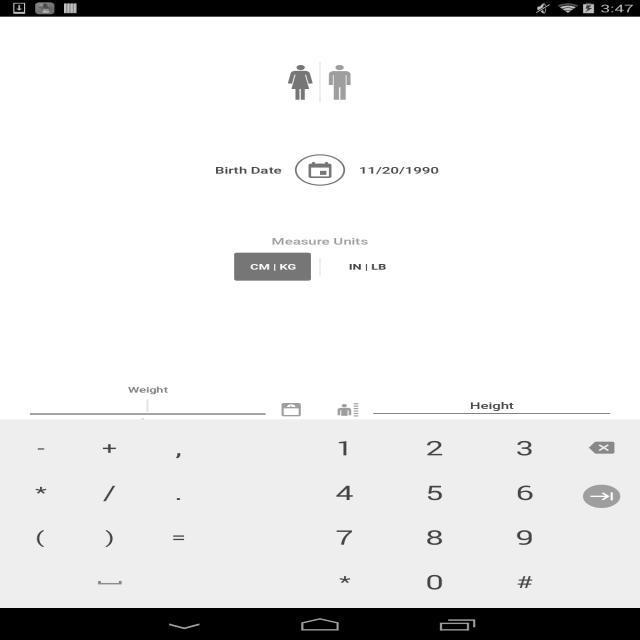Button: (234, 252, 311, 280), (329, 252, 406, 280)
EditText: (25, 393, 270, 419), (369, 393, 614, 419)
ImageButton: (284, 62, 316, 102), (324, 62, 356, 102)
ImageView: (291, 492, 349, 528), (294, 154, 346, 186), (291, 0, 348, 9), (278, 402, 304, 418), (335, 402, 360, 418)
TextView: (25, 416, 270, 434), (369, 416, 614, 434), (271, 235, 368, 247), (358, 164, 438, 176), (215, 164, 282, 176)
